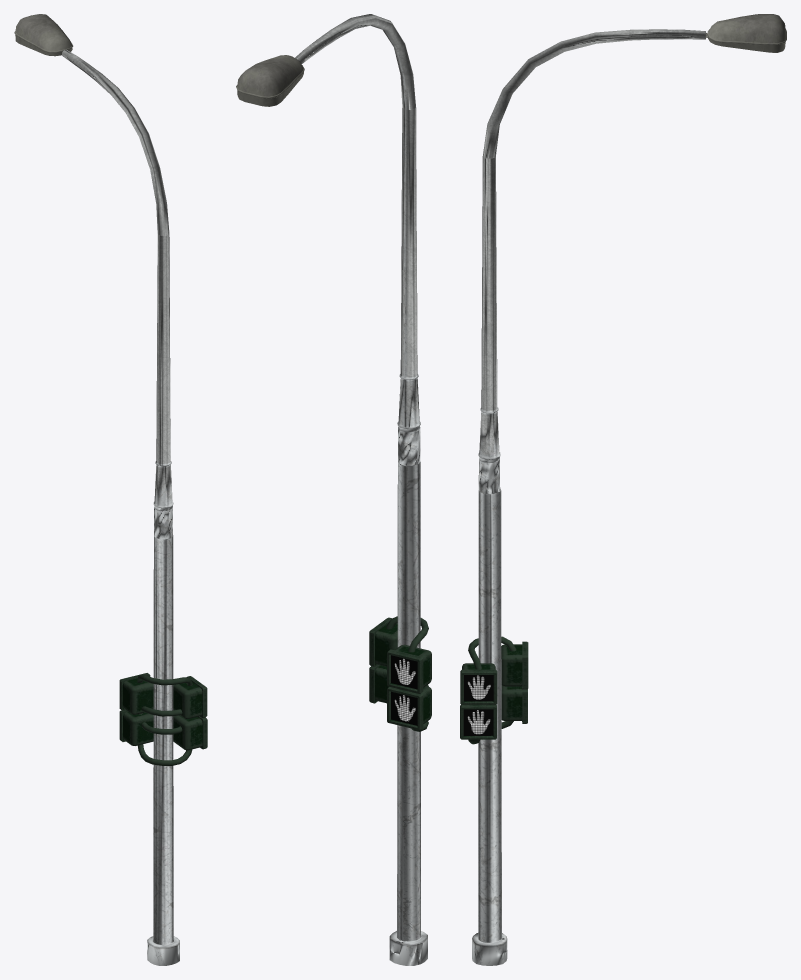
The model's file is TrafficLight_2.fbx.
3 views of the same model, side by side, from view 1: azimuth 30°, elevation 25°; view 2: azimuth 150°, elevation 25°; view 3: azimuth 270°, elevation 25° (orthographic). The views are drawn at different scales.
Visible parts, largest first — view 1: TrafficLight_2, TrafficLightMap2_v1_light_4_3.003, TrafficLightMap2_v1_light_4_3_1.002; view 2: TrafficLight_2, TrafficLightMap2_v1_light_4_3.003, TrafficLightMap2_v1_light_4_3_1.002, TrafficLightMap2_v1_light_4_2.003, TrafficLightMap2_v1_light_4_2_1.002; view 3: TrafficLight_2, TrafficLightMap2_v1_light_4_3.003, TrafficLightMap2_v1_light_4_3_1.002, TrafficLightMap2_v1_light_4_1_1.002, TrafficLightMap2_v1_light_4_1.003.
Boxes of the visible parts, x1,y1,x2,y2 form: TrafficLight_2: (14, 14, 179, 965); TrafficLightMap2_v1_light_4_3.003: (119, 673, 207, 734); TrafficLightMap2_v1_light_4_3_1.002: (119, 706, 207, 765); TrafficLight_2: (236, 14, 427, 965); TrafficLightMap2_v1_light_4_3.003: (369, 616, 431, 693); TrafficLightMap2_v1_light_4_3_1.002: (369, 665, 431, 731); TrafficLightMap2_v1_light_4_2.003: (391, 655, 417, 689); TrafficLightMap2_v1_light_4_2_1.002: (391, 691, 417, 725); TrafficLight_2: (472, 14, 786, 965); TrafficLightMap2_v1_light_4_3.003: (460, 636, 528, 704); TrafficLightMap2_v1_light_4_3_1.002: (460, 685, 527, 744); TrafficLightMap2_v1_light_4_1_1.002: (463, 709, 493, 735); TrafficLightMap2_v1_light_4_1.003: (464, 675, 493, 701).
Bounding box in the file's own units: 97.64 × 1364 × 430.
